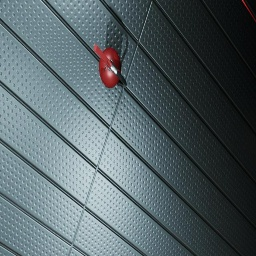FireExtinguisher ]: (94, 43, 127, 88)
